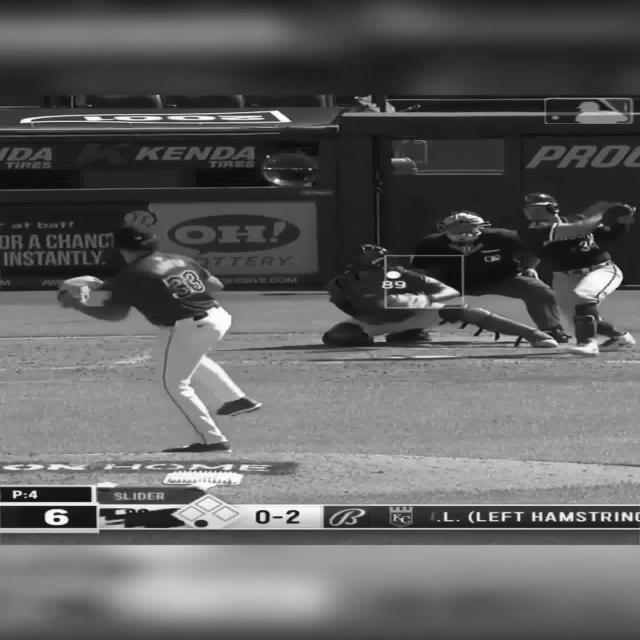baseball_glove: (55, 274, 103, 308), (387, 297, 423, 312)
shoe: (216, 397, 262, 416), (596, 331, 635, 351), (161, 442, 229, 452), (385, 328, 431, 342), (527, 330, 557, 348), (569, 337, 599, 355), (542, 324, 568, 342)
